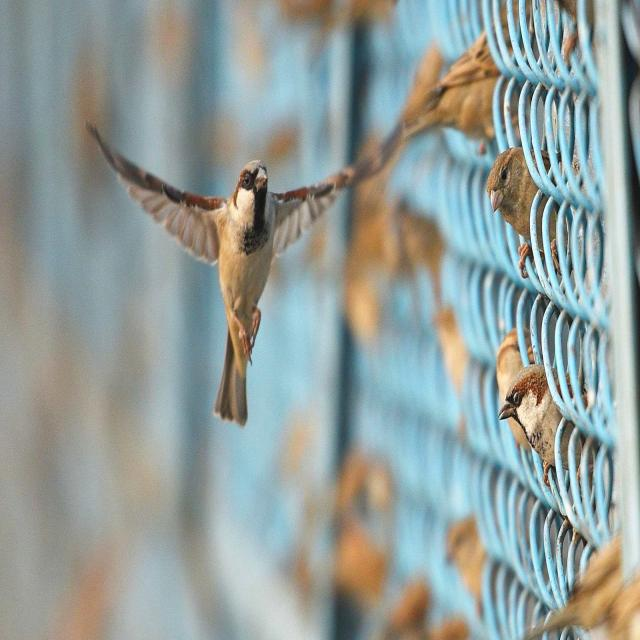sparrow: (87, 122, 404, 425), (500, 364, 564, 481), (487, 147, 539, 239)
